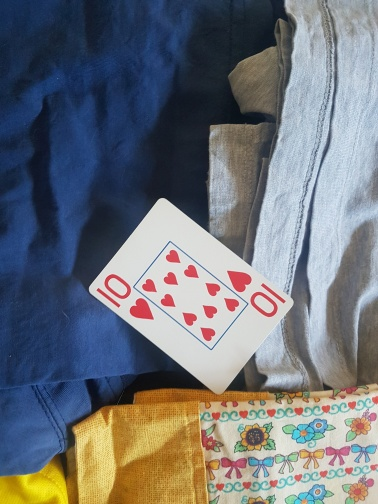ten: (89, 197, 294, 395)
